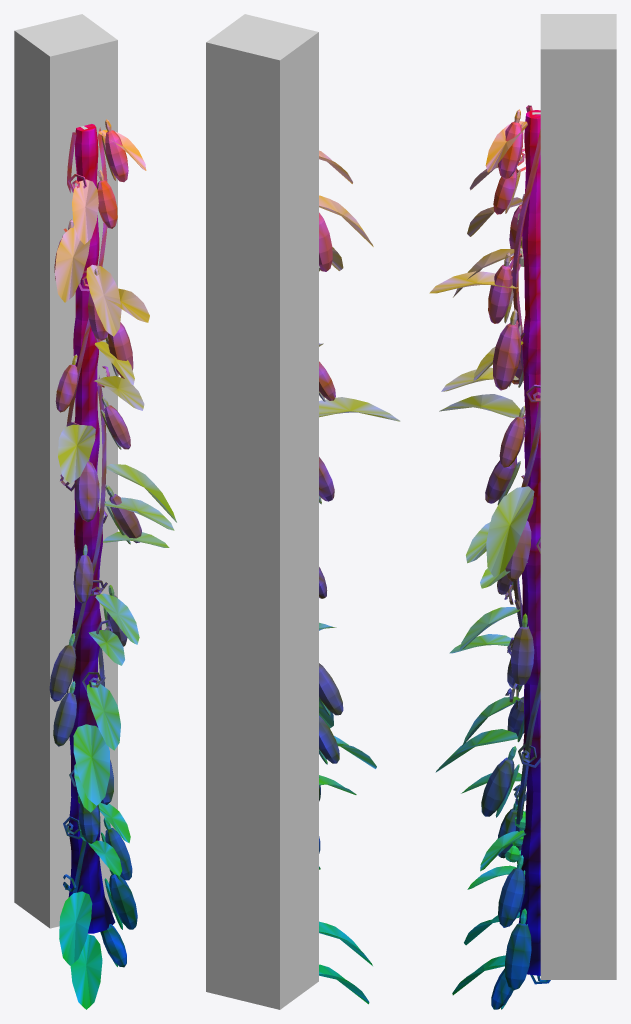
Rendered from Plant_Ladder_06.fbx.
3 views of the same model, side by side, from view 1: azimuth 30°, elevation 25°; view 2: azimuth 150°, elevation 25°; view 3: azimuth 270°, elevation 25° (orthographic). The views are drawn at different scales.
Parts seen in each view (by area): view 1: CLIMB_0, Plant_Ladder_06; view 2: CLIMB_0, Plant_Ladder_06; view 3: CLIMB_0, Plant_Ladder_06.
Part boxes in pixels (x1=…): CLIMB_0: x1=14, y1=14, x2=117, y2=928; Plant_Ladder_06: x1=49, y1=119, x2=176, y2=1009; CLIMB_0: x1=206, y1=14, x2=318, y2=1009; Plant_Ladder_06: x1=319, y1=150, x2=400, y2=1004; CLIMB_0: x1=540, y1=14, x2=616, y2=979; Plant_Ladder_06: x1=429, y1=105, x2=550, y2=1009.
Bounding box in the file's own units: 2.21 × 14.28 × 2.47.
